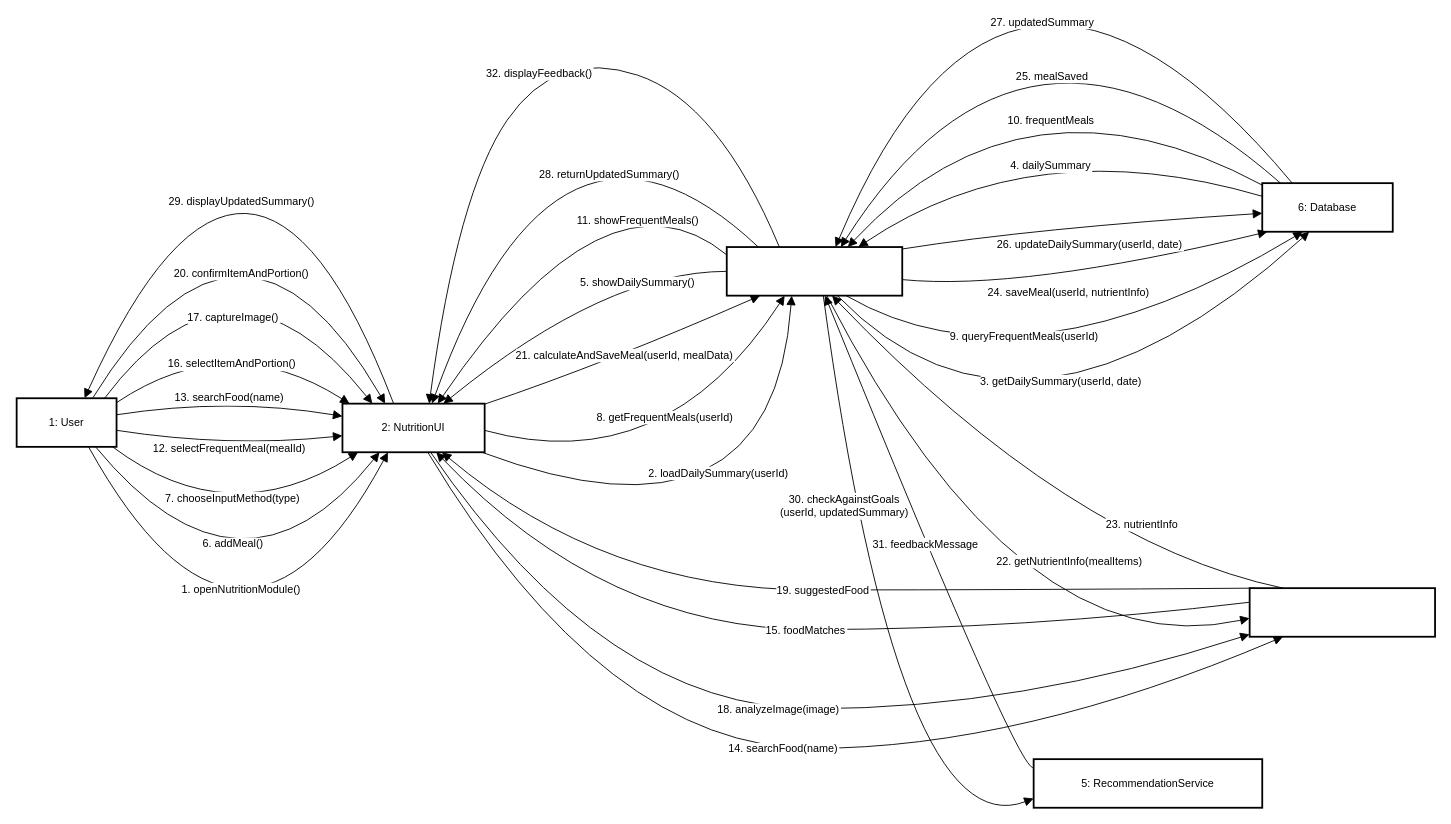
This 1451x824 diagram has some shape labels left out. Each missing label, with the centre of its shape:
"3: NutritionService" belongs at [814,271].
"4: FoodDB_AIService" belongs at [1342,612].
